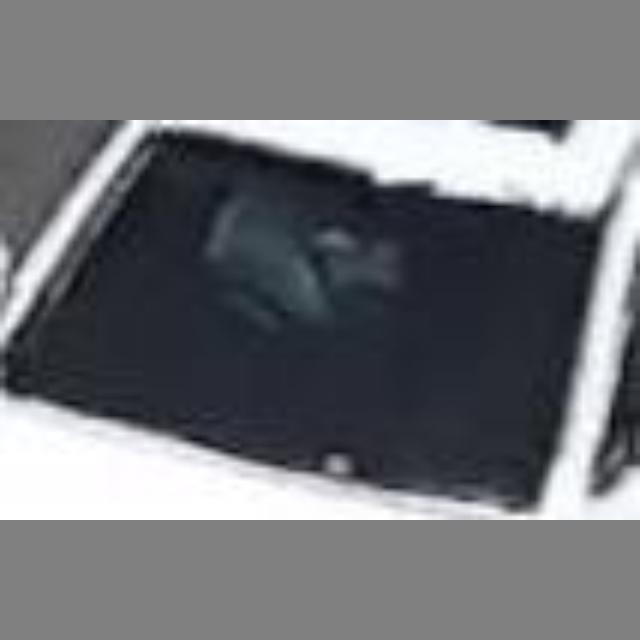pakai: (173, 180, 425, 425)
